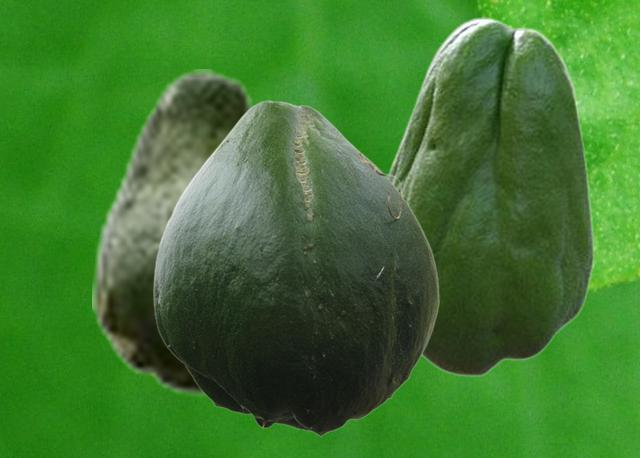sayote: (153, 100, 438, 436), (386, 17, 594, 376), (92, 69, 262, 396)
